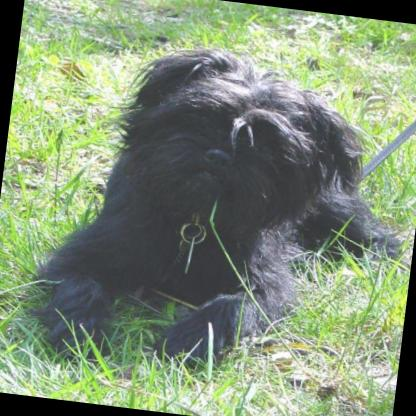affenpinscher: (15, 24, 416, 393)
